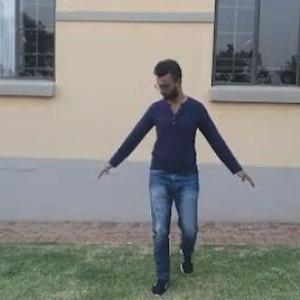land: (71, 45, 256, 283)
